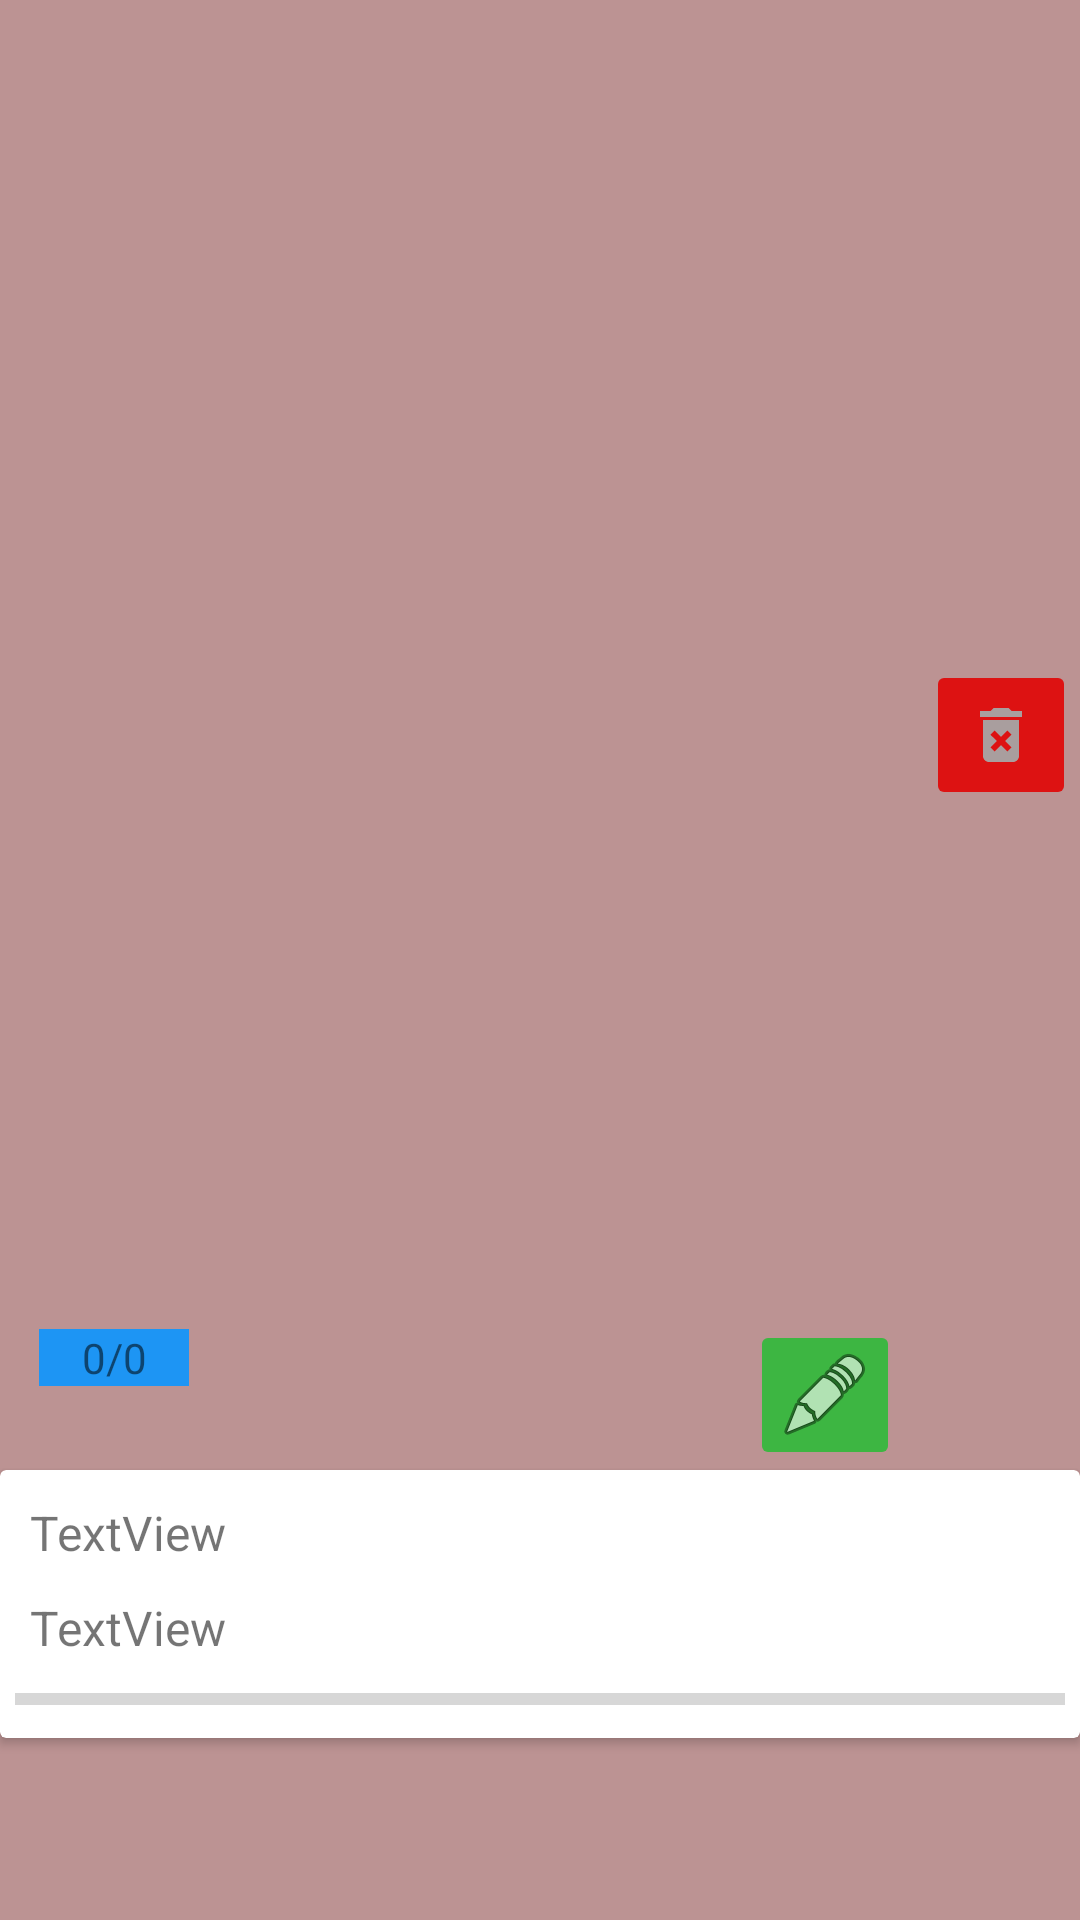

Where to tap for icons on this 1080*1920 app screen, as point (x, y):
delete: point (1001, 735)
edit: point (825, 1395)
